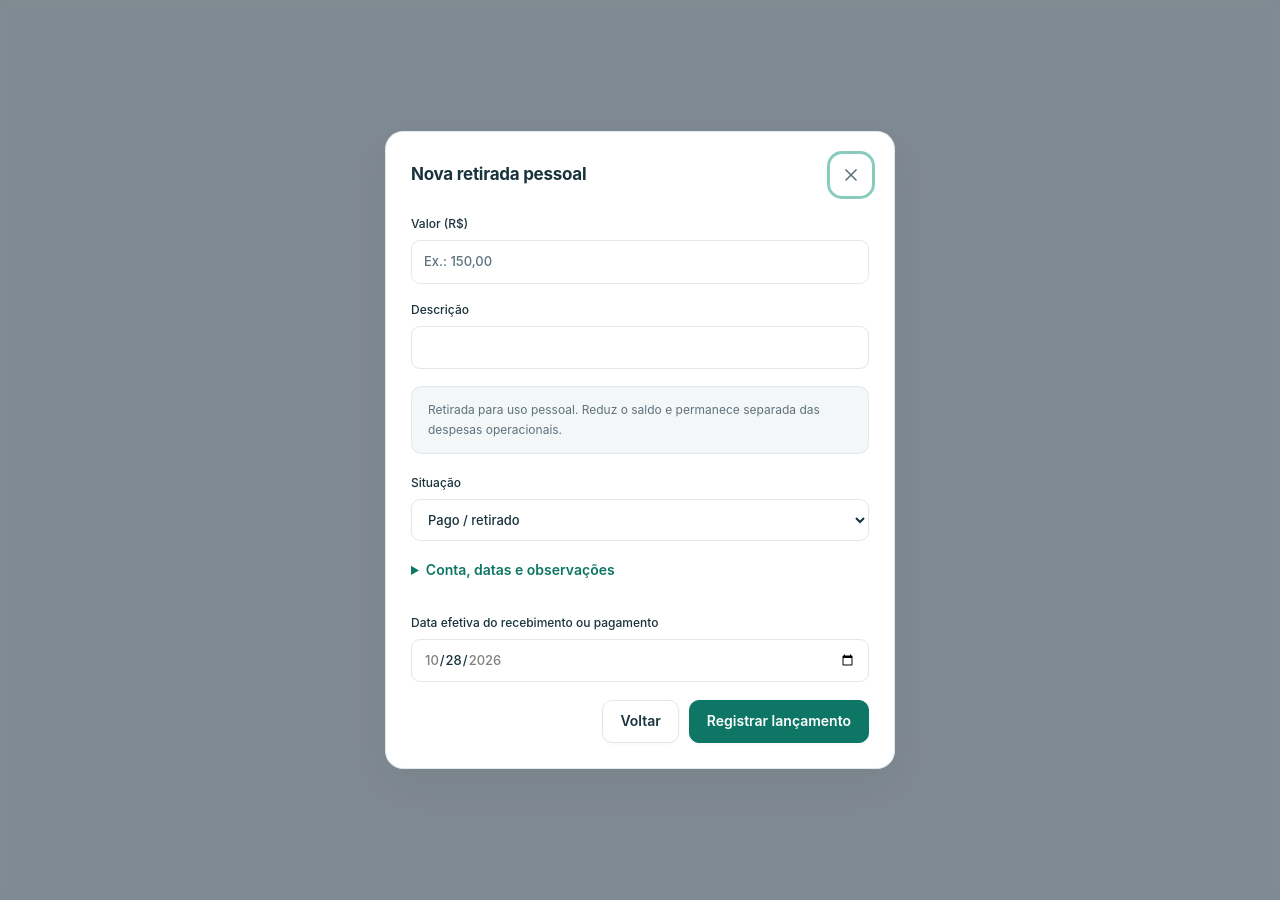
preserves entered values and exposes server failure
This screenshot has width=1280, height=900.
Type "30" into the field labelled "Valor (R$)" at coordinates (640, 262), box [411, 240, 869, 284]
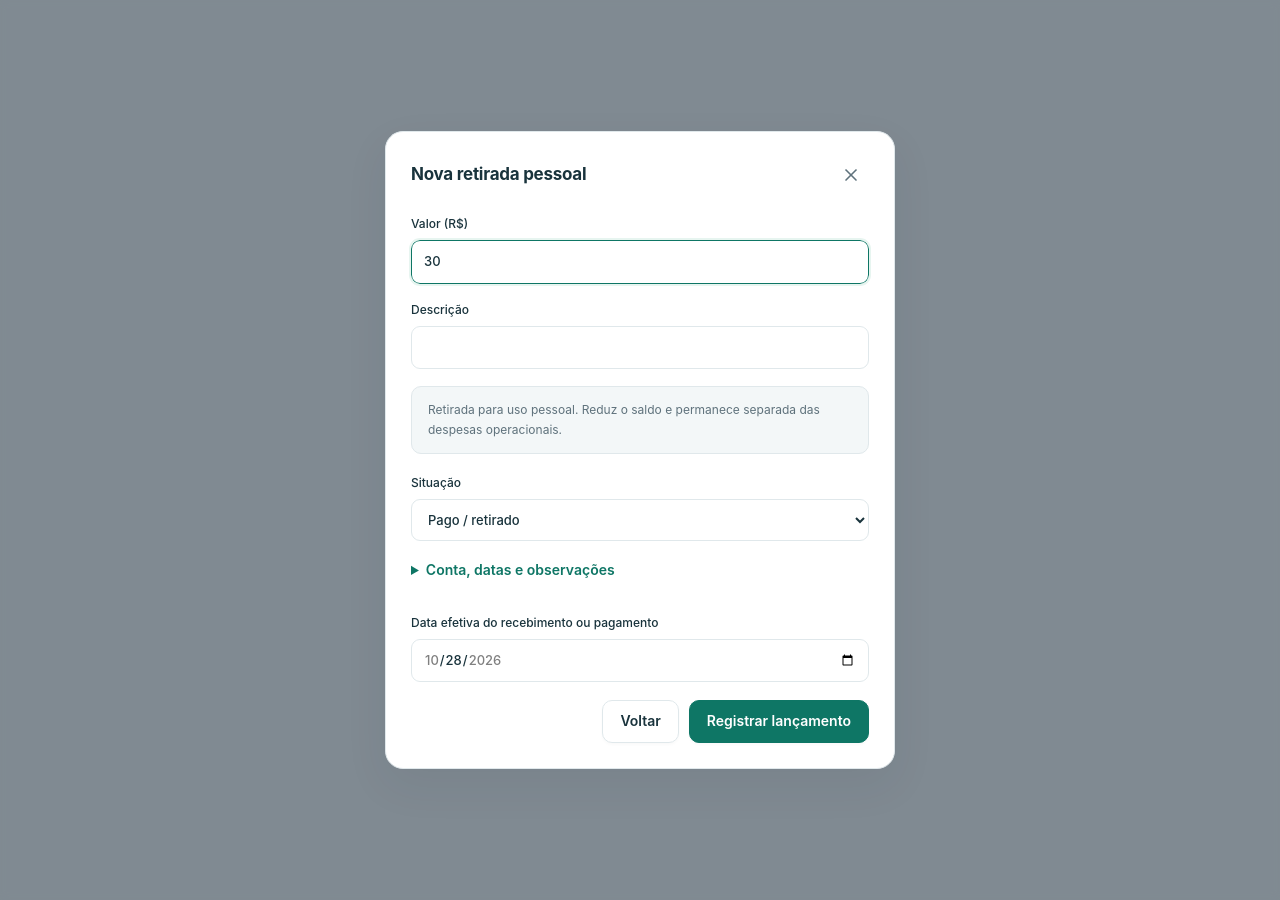
Type "Uso pessoal" into the field labelled "Descrição" at coordinates (640, 347), box [411, 326, 869, 369]
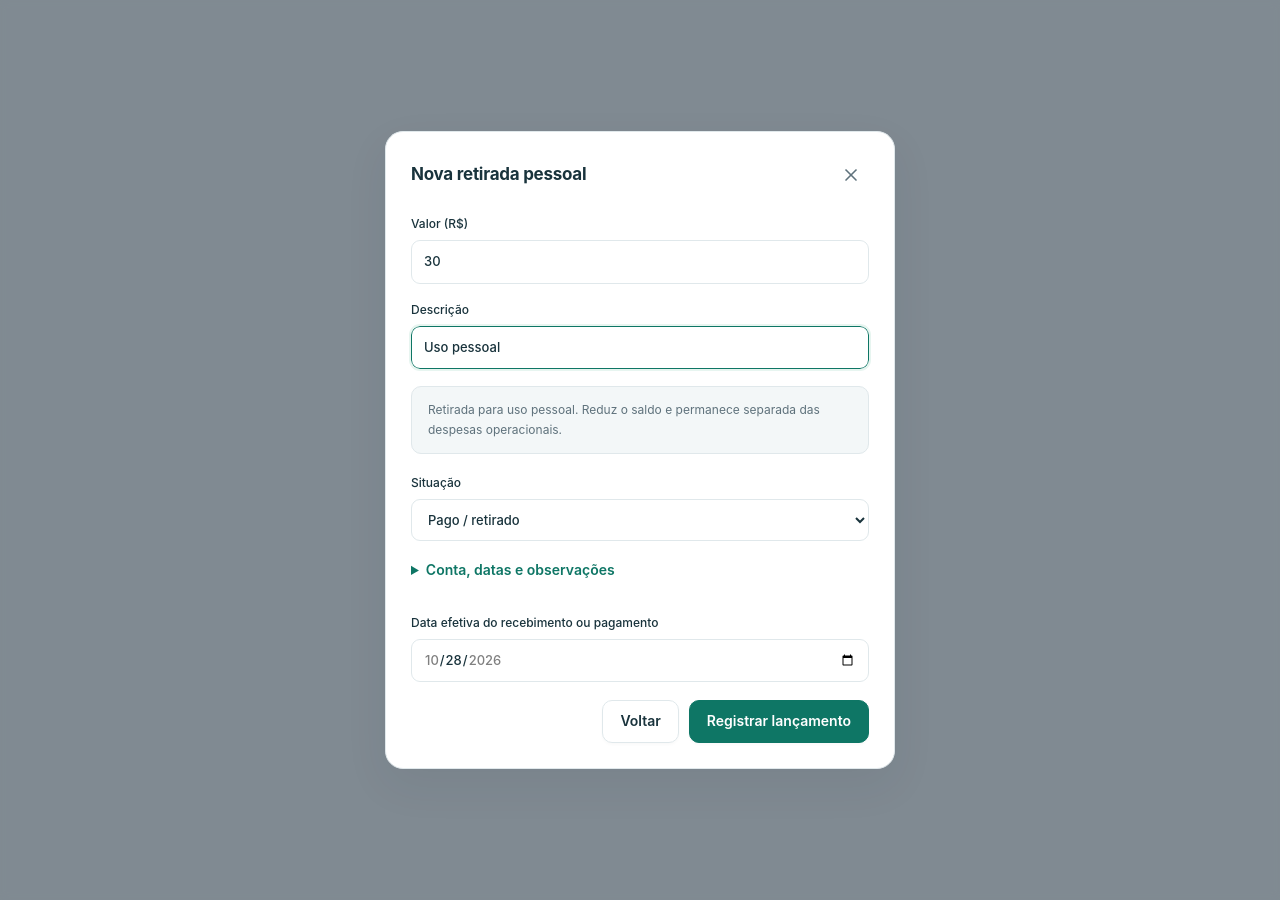
Click the button "Registrar lançamento" at coordinates (779, 722), box [689, 700, 869, 743]
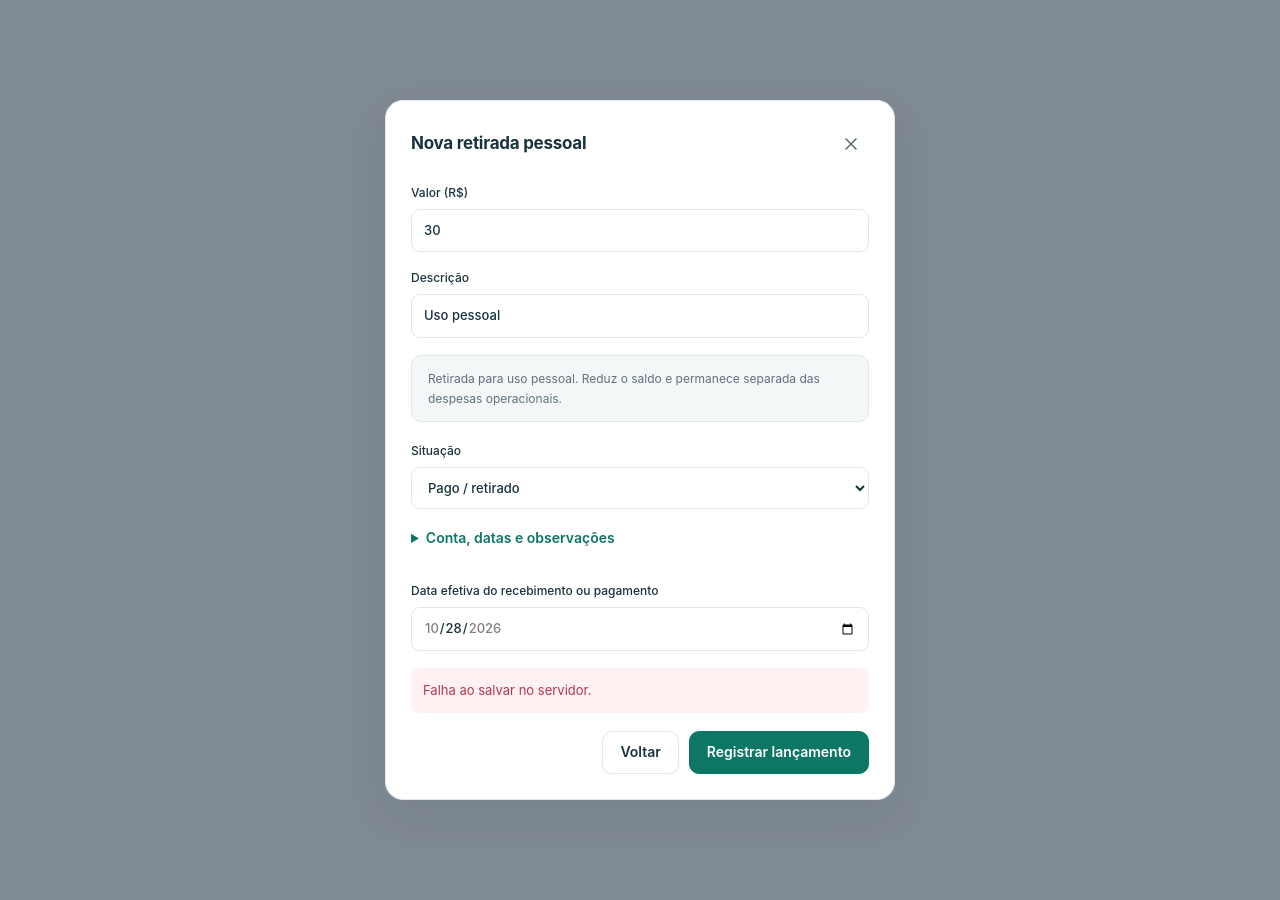
Expected: the button "Registrar lançamento" is enabled, [689, 731, 869, 774]
Now the message reads "Falha ao salvar no servidor.", box [423, 682, 591, 698]
